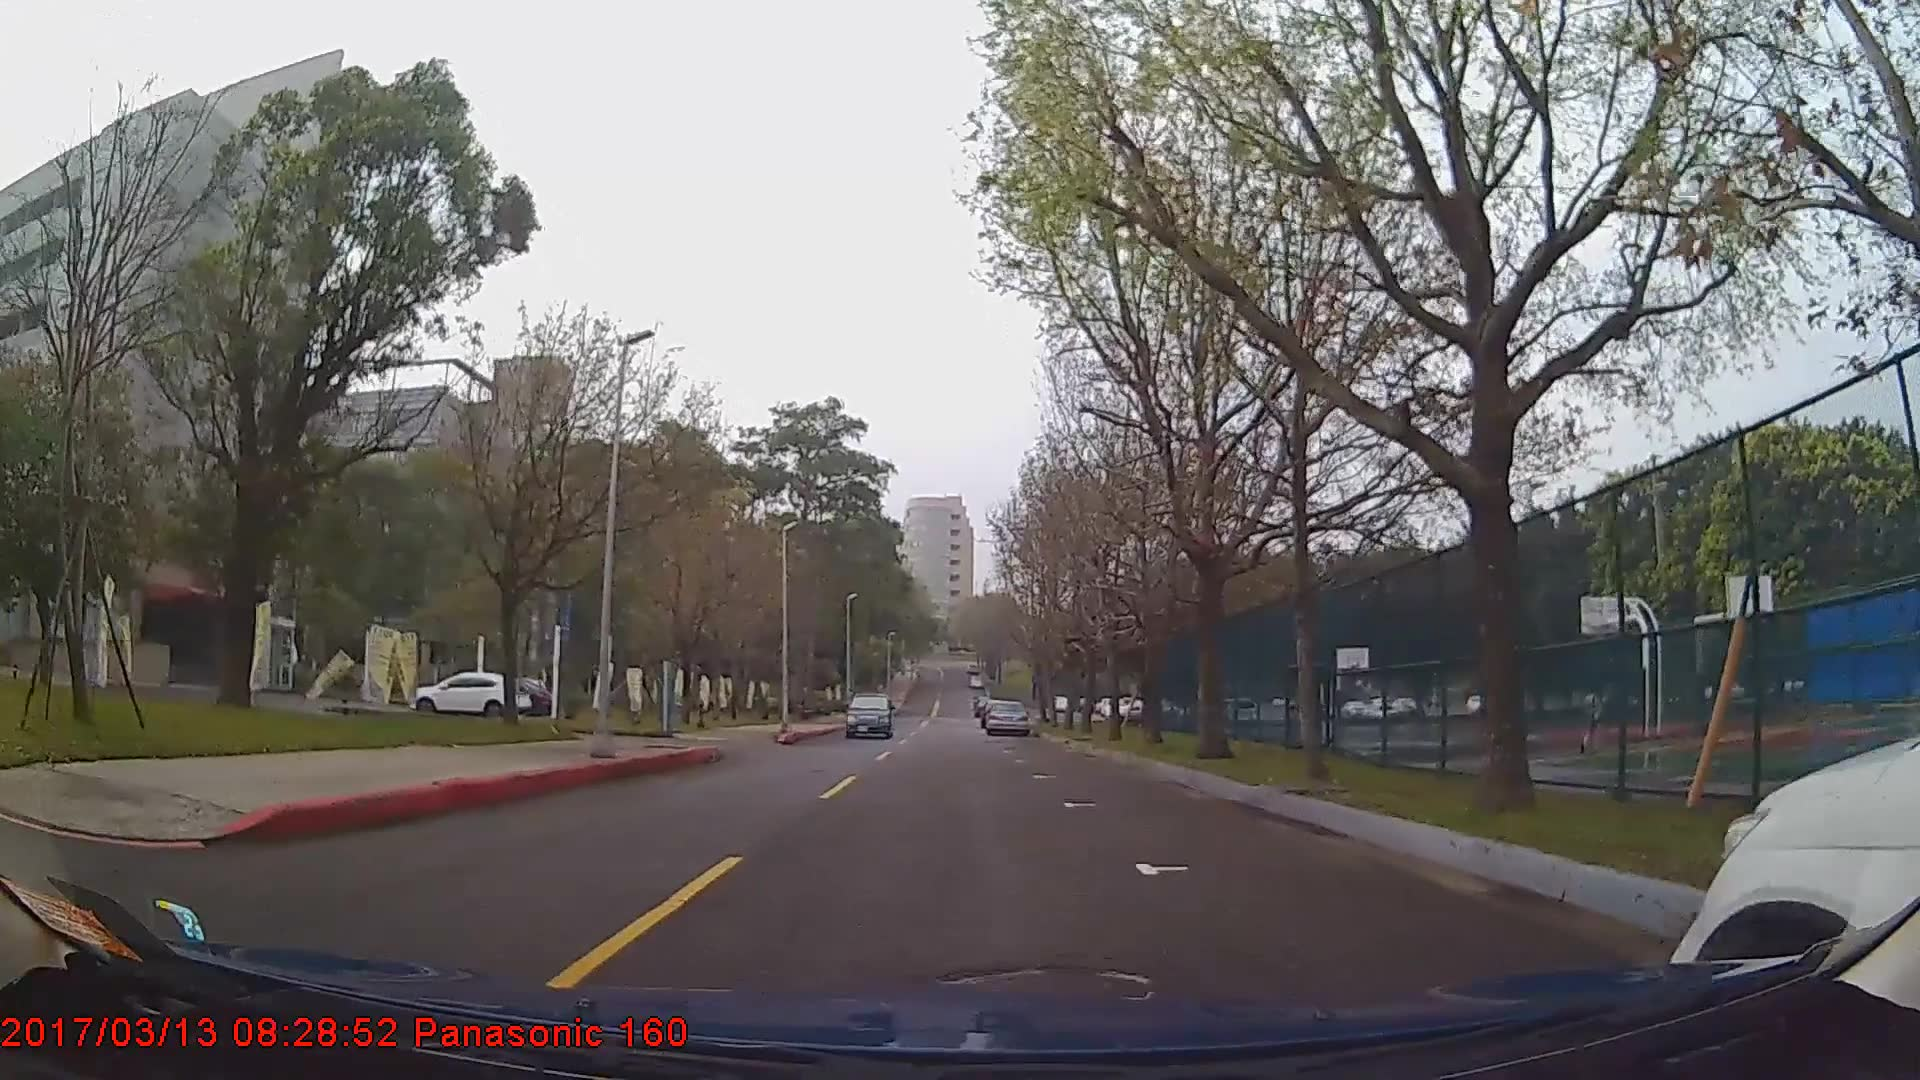vehicle: (409, 667, 531, 715), (845, 688, 894, 738), (984, 698, 1029, 738)
